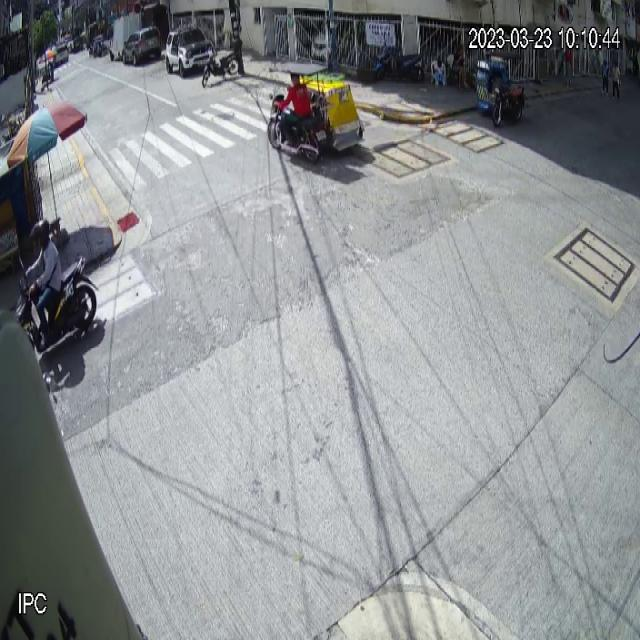Motorcycle: (16, 253, 100, 353)
Tricycle: (268, 59, 365, 164), (476, 49, 527, 128)
